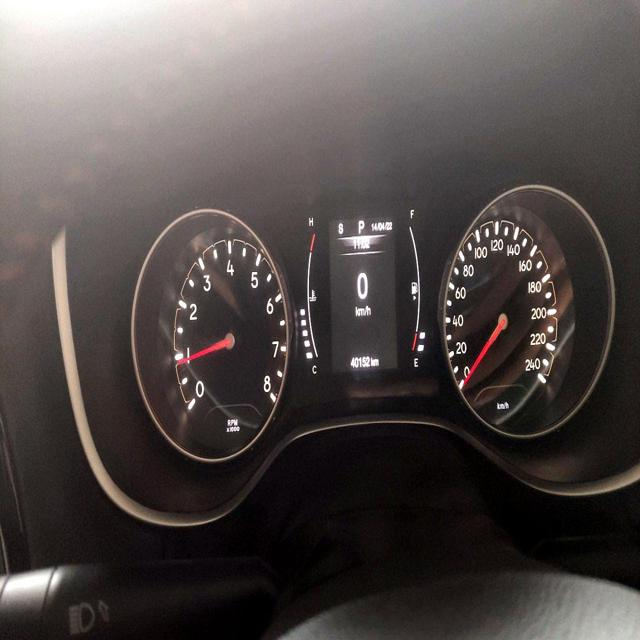odometer: (348, 351, 371, 370)
